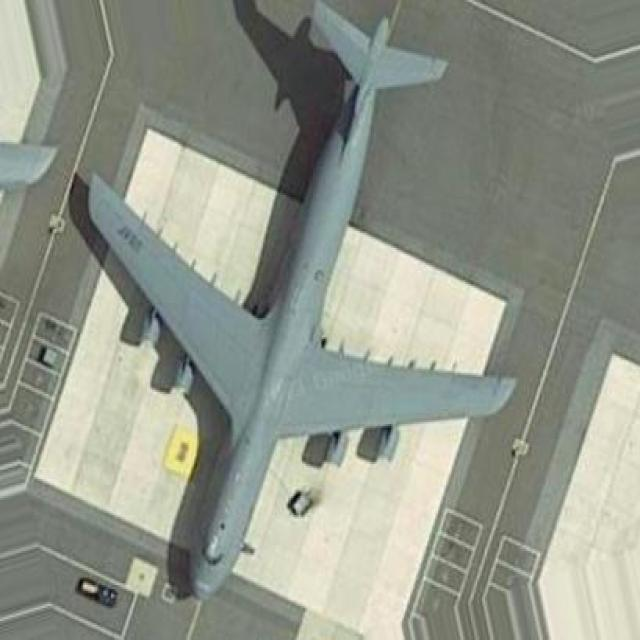C-5_TopDown: (61, 0, 518, 602)
